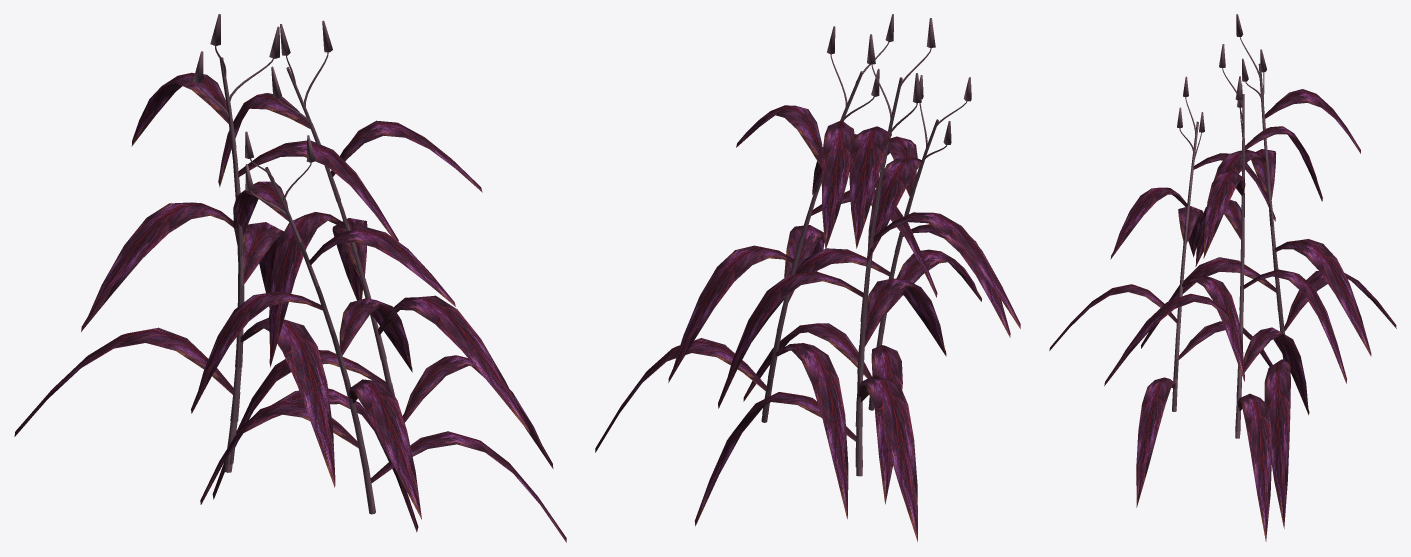
File: finegrass_07.glb
3 views of the same model, side by side, from view 1: azimuth 30°, elevation 25°; view 2: azimuth 150°, elevation 25°; view 3: azimuth 270°, elevation 25° (orthographic). The views are drawn at different scales.
Visible parts, largest first — view 1: export; view 2: export; view 3: export.
Part boxes in pixels (x1=…): export: x1=14, y1=14, x2=566, y2=542; export: x1=595, y1=14, x2=1020, y2=541; export: x1=1049, y1=14, x2=1396, y2=541.
Bounding box in the file's own units: 1.25 × 1.51 × 1.09.
2 materials, 2 textured.
